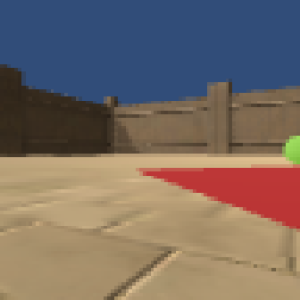deathZone: (135, 164, 300, 233)
goodGoal: (280, 133, 300, 164)
